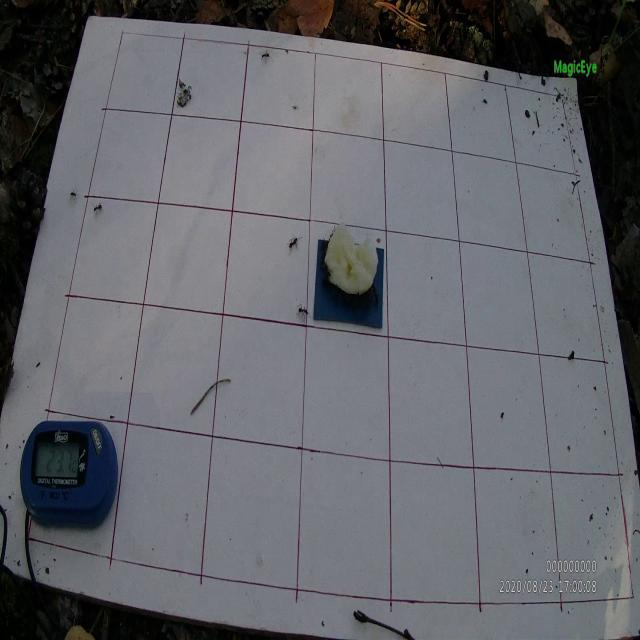Ant: (287, 234, 303, 254), (296, 304, 311, 324), (90, 201, 105, 217), (257, 50, 272, 64), (69, 188, 79, 202)
